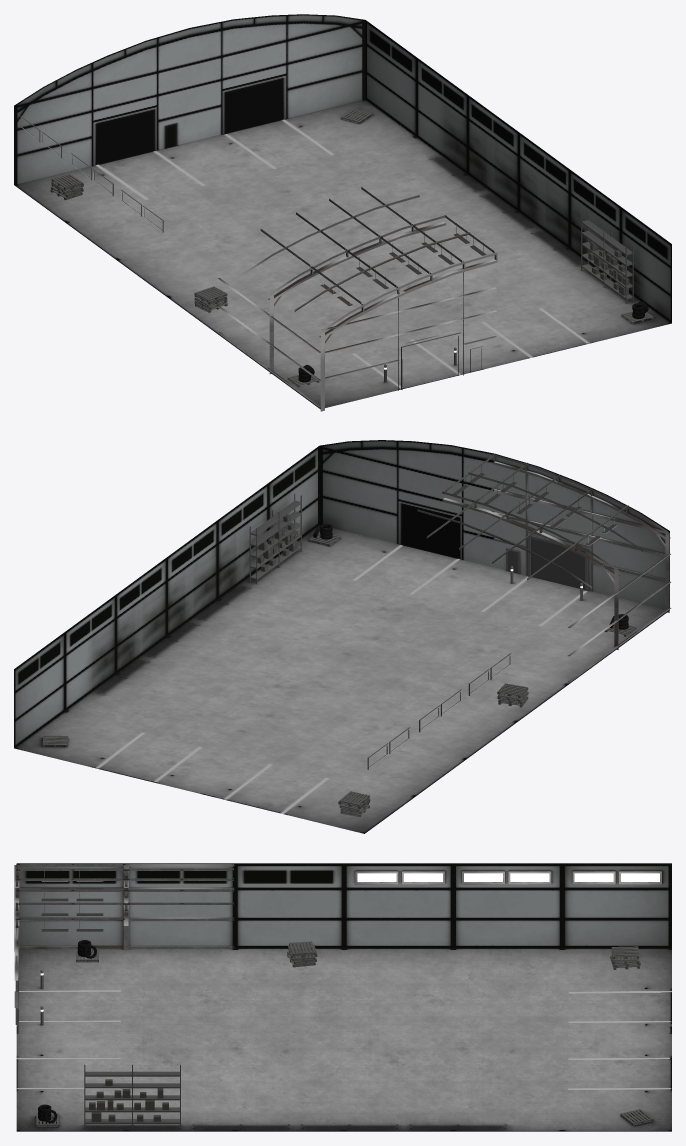
Rendered from warehouse.glb.
The picture shows the model from 3 angles, top to bottom: view 1: azimuth 30°, elevation 25°; view 2: azimuth 150°, elevation 25°; view 3: azimuth 270°, elevation 25°; orthographic projection. The views are drawn at different scales.
Parts seen in each view (by area): view 1: building, support, shelves, support.002, support.003, support2, lights, windows; view 2: building, support, shelves, support2.001, support2, support.002, support.003, windows, lights; view 3: building, windows, shelves, support, support.003, lights, support2.
Boxes of the visible parts, x1,y1,x2,y2 form: building: (14, 14, 671, 409); support: (217, 187, 446, 374); shelves: (581, 213, 633, 303); support.002: (319, 252, 497, 411); support.003: (268, 224, 470, 407); support2: (322, 261, 496, 390); lights: (320, 232, 454, 306); windows: (19, 115, 163, 232); building: (14, 440, 669, 833); support: (417, 491, 620, 682); shelves: (249, 494, 301, 584); support2.001: (510, 535, 588, 600); support2: (494, 462, 665, 591); support.002: (493, 454, 670, 612); support.003: (468, 463, 671, 644); windows: (367, 653, 511, 769); lights: (484, 472, 617, 545); building: (16, 863, 671, 1131); windows: (355, 871, 661, 884); shelves: (84, 1064, 180, 1128); support: (123, 864, 234, 949); support.003: (16, 864, 125, 948); lights: (41, 871, 103, 915); support2: (14, 865, 18, 1024).
Size of the model in its own units: 32.66 by 10.34 by 49.3.
4 materials, 4 textured.
